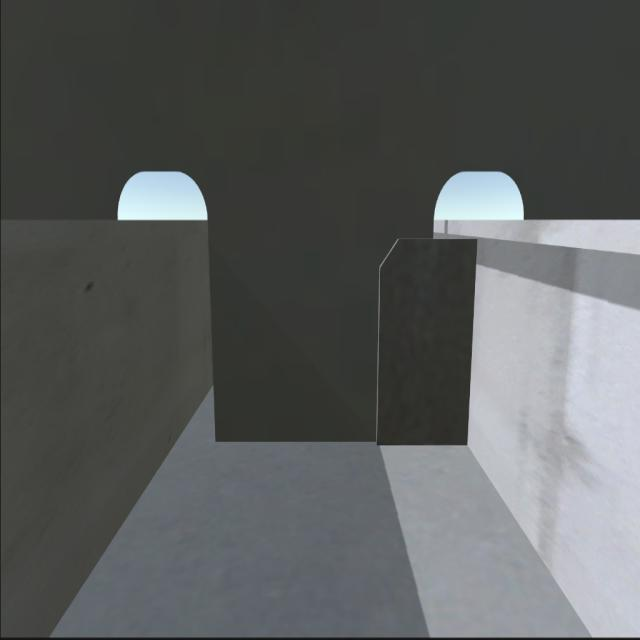fillet_yong_jeop_jang: (216, 433, 470, 456)
longi_yong_jeop_jang: (459, 232, 484, 465)
plate_CP03: (378, 236, 472, 444)
